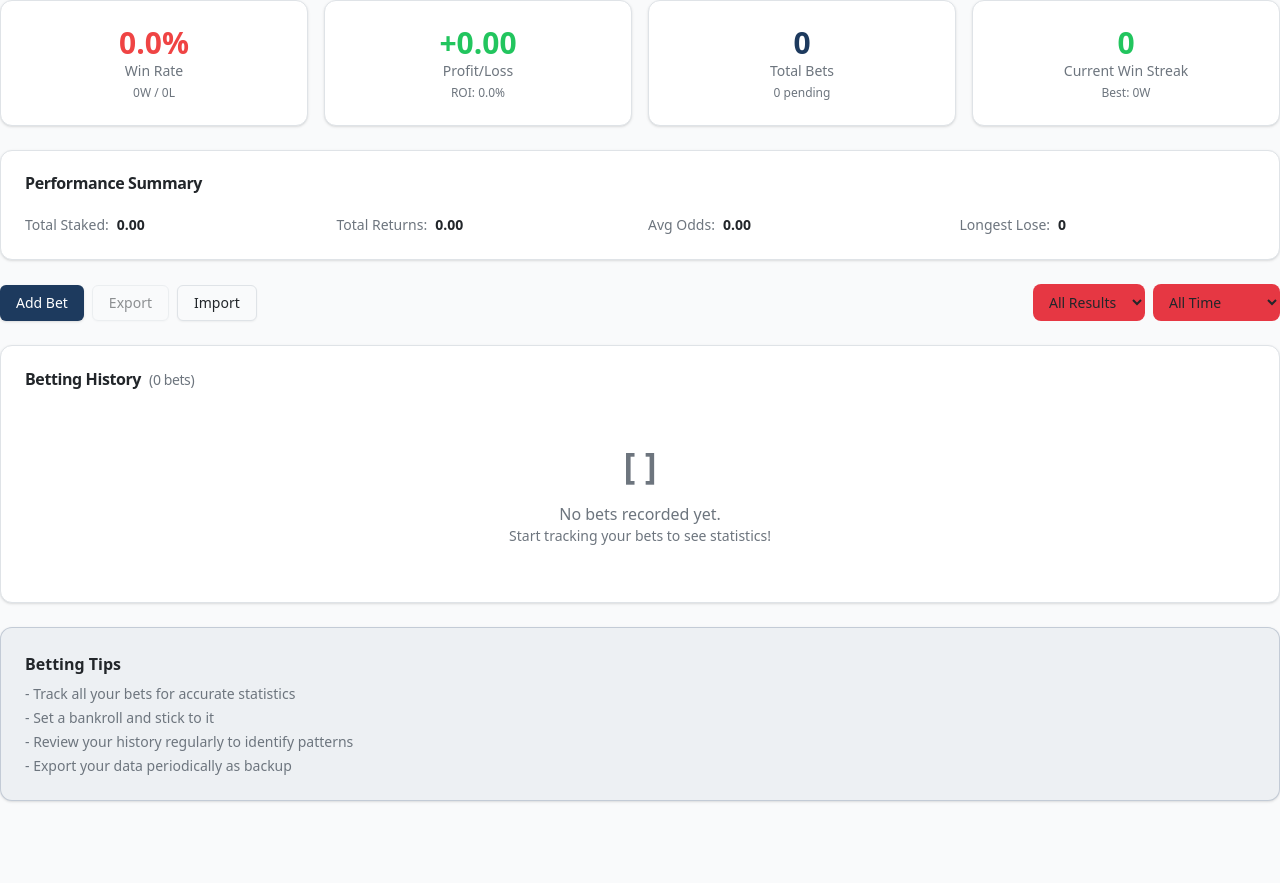
it: BettingHistoryTracker › Add Bet Form › closes form when cancel is clicked
Click the button "Add Bet" at (42, 302), box [0, 284, 84, 320]
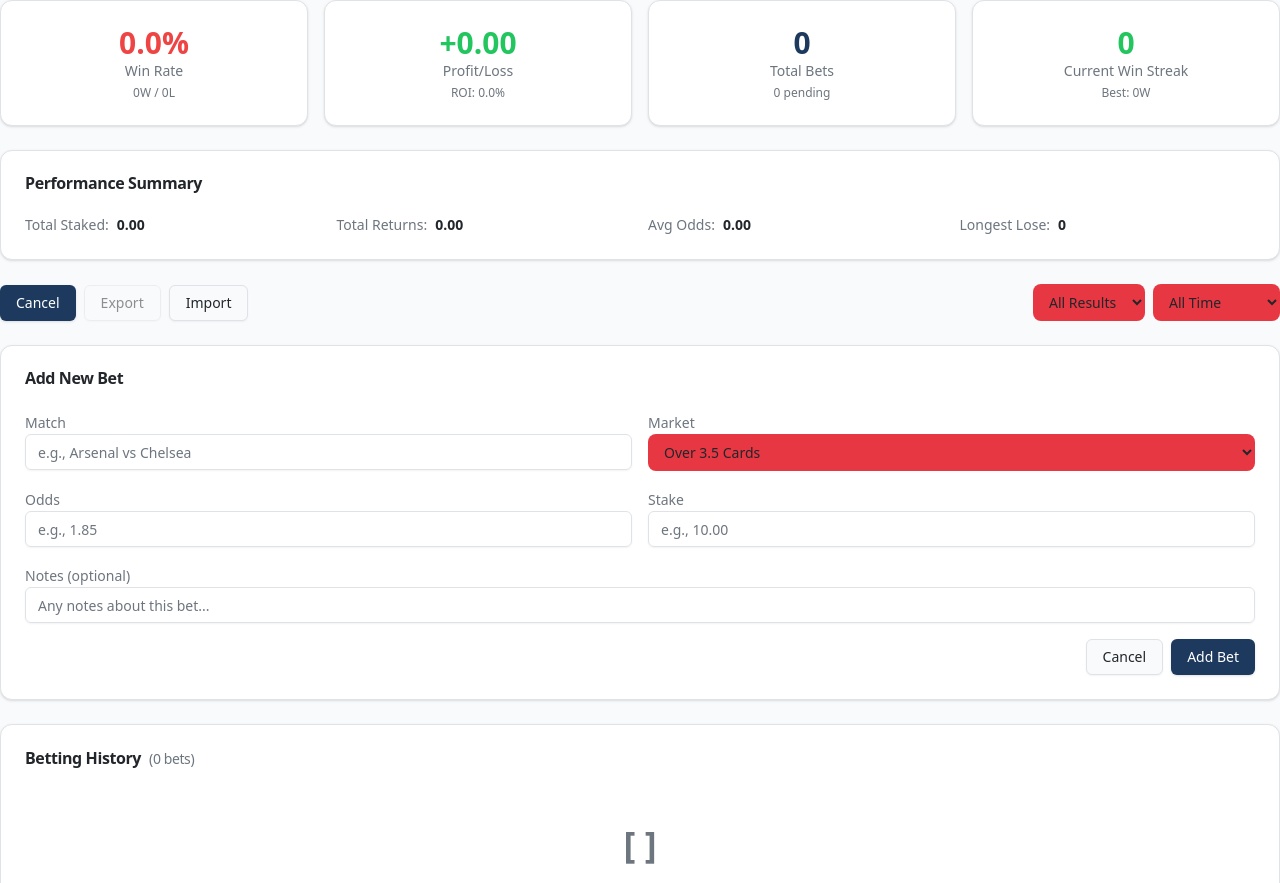
expect the text "Add New Bet" is shown: met, box [25, 367, 123, 389]
Click the 2nd button "Cancel" at (1124, 657), box [1086, 639, 1163, 675]
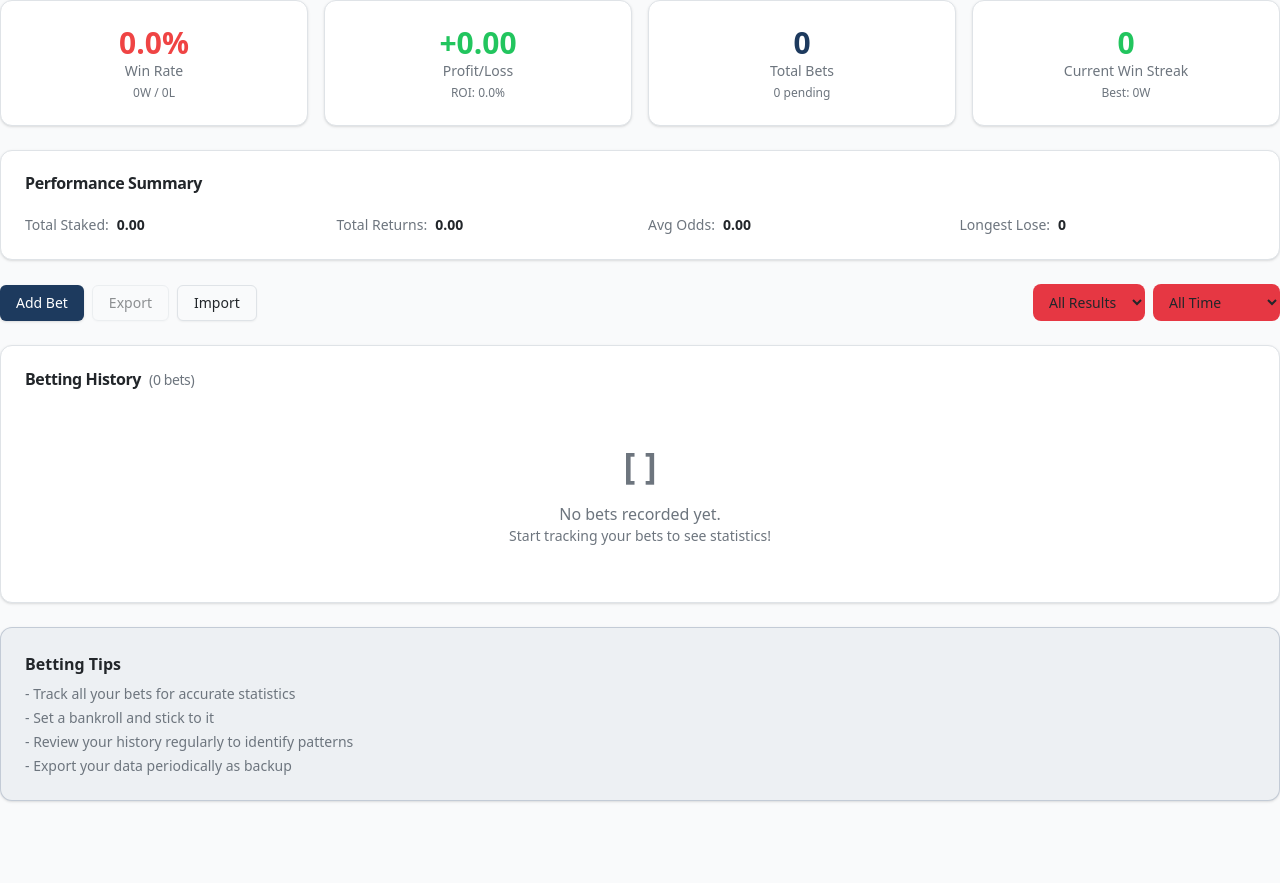
expect the text "Add New Bet" is gone: met
